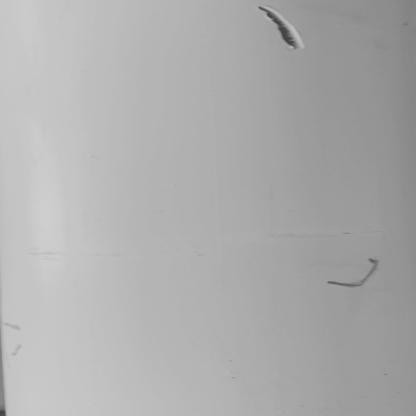fengxi: (306, 252, 380, 295)
kongdong: (252, 4, 323, 59)
